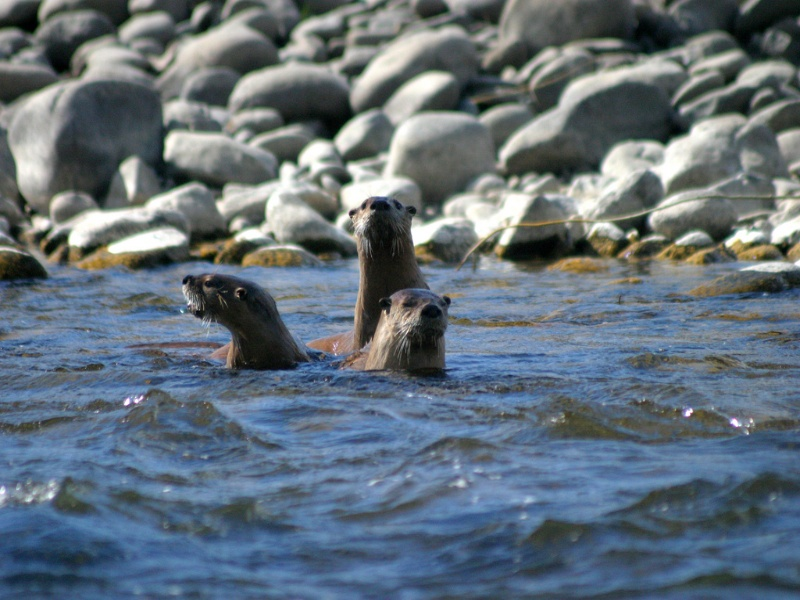minkish: (176, 269, 312, 375), (339, 286, 468, 383), (345, 201, 424, 263)
